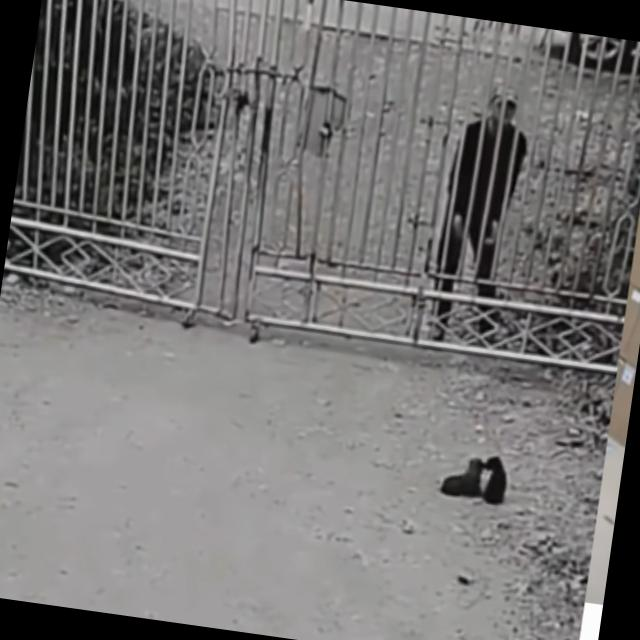person: (426, 82, 534, 346)
